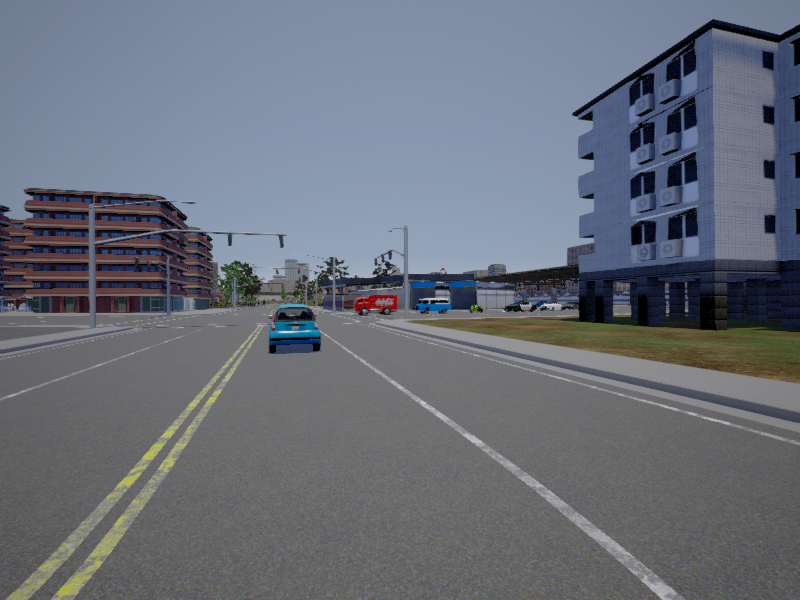Benign: (269, 306, 322, 352), (353, 296, 398, 317), (416, 297, 451, 314), (504, 301, 535, 314)
